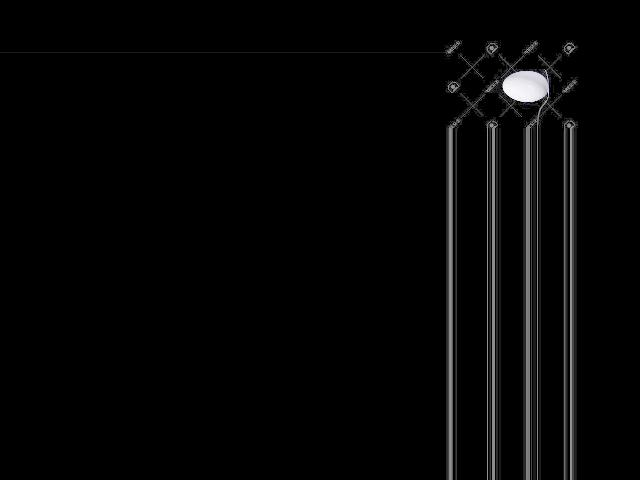egg: (503, 71, 548, 102)
